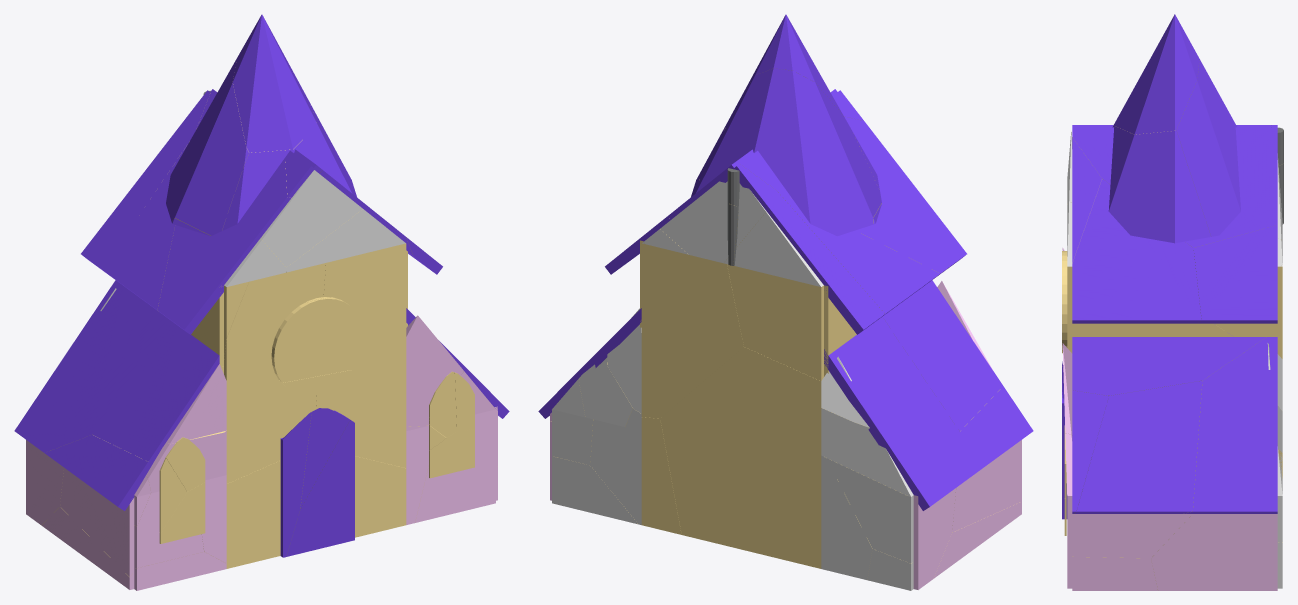
File: Church_Broken.fbx
The picture shows the model from 3 angles, left to right: view 1: azimuth 30°, elevation 25°; view 2: azimuth 150°, elevation 25°; view 3: azimuth 270°, elevation 25°; orthographic projection.
Parts seen in each view (by area): view 1: Church.032_cell.003, Church.032_cell, Church.038_cell, Church.038_cell.003, Church.032_cell.002, Church.037_cell.002, Church.029_cell.001, Church.029_cell, Church.002_cell.002, Church.042_cell, Church.037_cell, Church.040_cell.001 (+29 smaller); view 2: Church.035_cell.003, Church.029_cell.001, Church.035_cell.002, Church.038_cell, Church.038_cell.003, Church.035_cell, Church.037_cell.002, Church.037_cell.001, Church.037_cell, Church.041_cell.002, Church.047_cell.002, Church.047_cell.001 (+21 smaller); view 3: Church.039_cell.002, Church.039_cell.003, Church.036_cell.001, Church.029_cell.003, Church.027_cell.001, Church.039_cell.001, Church.036_cell.002, Church.029_cell.001, Church.036_cell, Church.029_cell, Church.027_cell.002, Church.027_cell (+15 smaller).
Part boxes in pixels (x1,y1,x2,y2): Church.032_cell.003: (316, 243, 406, 467); Church.032_cell: (224, 263, 325, 483); Church.038_cell: (14, 280, 168, 452); Church.038_cell.003: (92, 319, 219, 461); Church.032_cell.002: (226, 456, 406, 568); Church.037_cell.002: (157, 92, 291, 334); Church.029_cell.001: (166, 58, 249, 235); Church.029_cell: (232, 14, 317, 152); Church.002_cell.002: (271, 297, 363, 382); Church.042_cell: (286, 420, 354, 556); Church.037_cell: (102, 143, 188, 311); Church.040_cell.001: (261, 170, 362, 267); Church.035_cell.003: (660, 347, 821, 568); Church.029_cell.001: (691, 68, 881, 236); Church.035_cell.002: (641, 243, 743, 418); Church.038_cell: (824, 317, 959, 510); Church.038_cell.003: (882, 280, 1002, 431); Church.035_cell: (727, 264, 823, 380); Church.037_cell.002: (740, 116, 966, 278); Church.037_cell.001: (733, 164, 884, 334); Church.037_cell: (777, 191, 939, 316); Church.041_cell.002: (660, 181, 766, 263); Church.047_cell.002: (837, 479, 913, 563); Church.047_cell.001: (821, 475, 872, 579); Church.039_cell.002: (1074, 381, 1202, 513); Church.039_cell.003: (1183, 337, 1277, 513); Church.036_cell.001: (1072, 179, 1201, 323); Church.029_cell.003: (1108, 125, 1210, 243); Church.027_cell.001: (1151, 514, 1277, 590); Church.039_cell.001: (1072, 337, 1266, 395); Church.036_cell.002: (1193, 225, 1277, 323); Church.029_cell.001: (1176, 59, 1240, 236); Church.036_cell: (1072, 127, 1277, 247); Church.029_cell: (1113, 14, 1199, 134); Church.027_cell.002: (1072, 514, 1192, 558); Church.027_cell: (1072, 556, 1157, 590).
Size of the model in its own units: 8.72 by 10.5 by 4.33.
